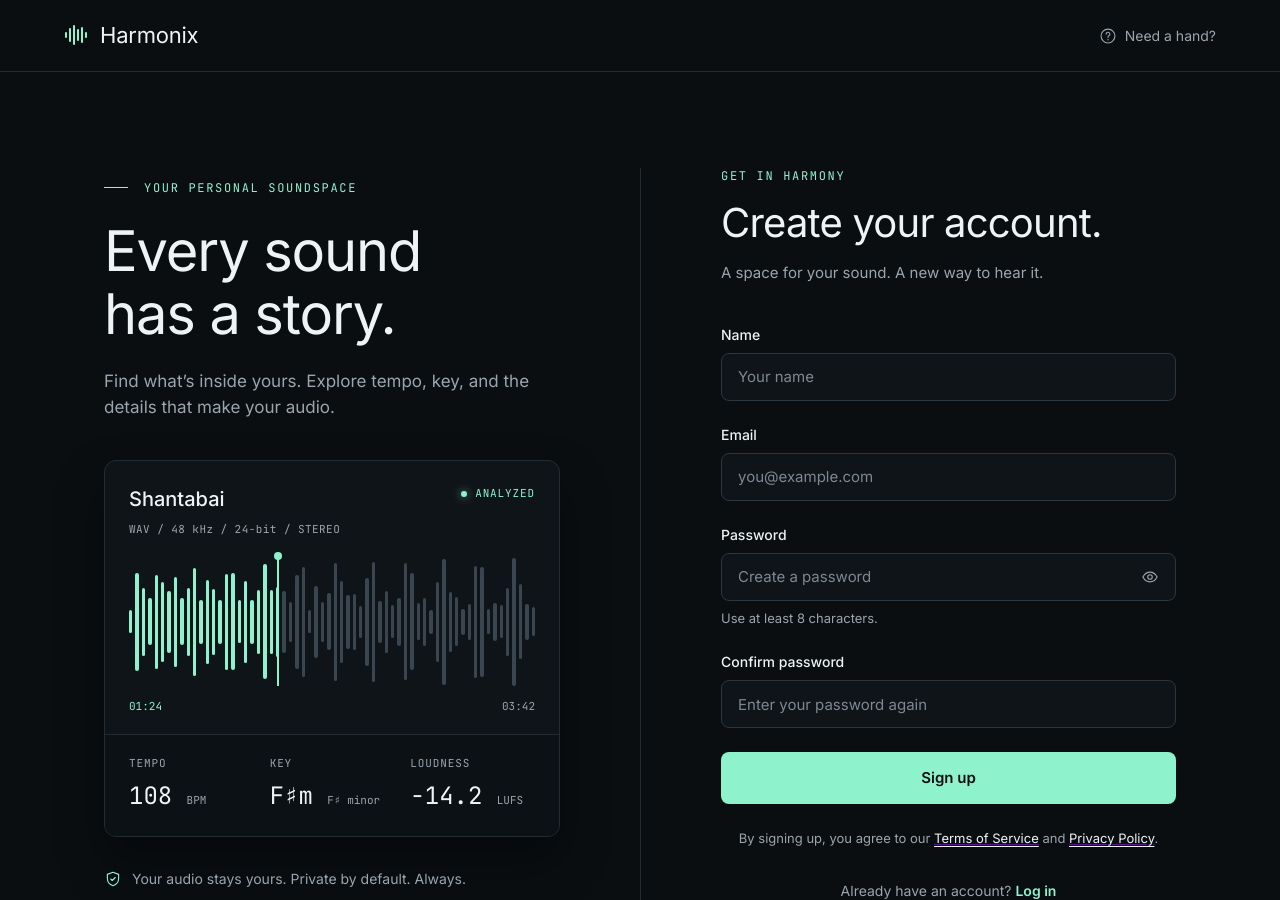
Test: login and signup pages › shows signup API errors and sanitizes unexpected exceptions
This screenshot has width=1280, height=900.
Type " Listener " into the field labelled "Name".
click(948, 376); type(" Listener ")  # box top-left (721, 352), bottom-right (1176, 400)
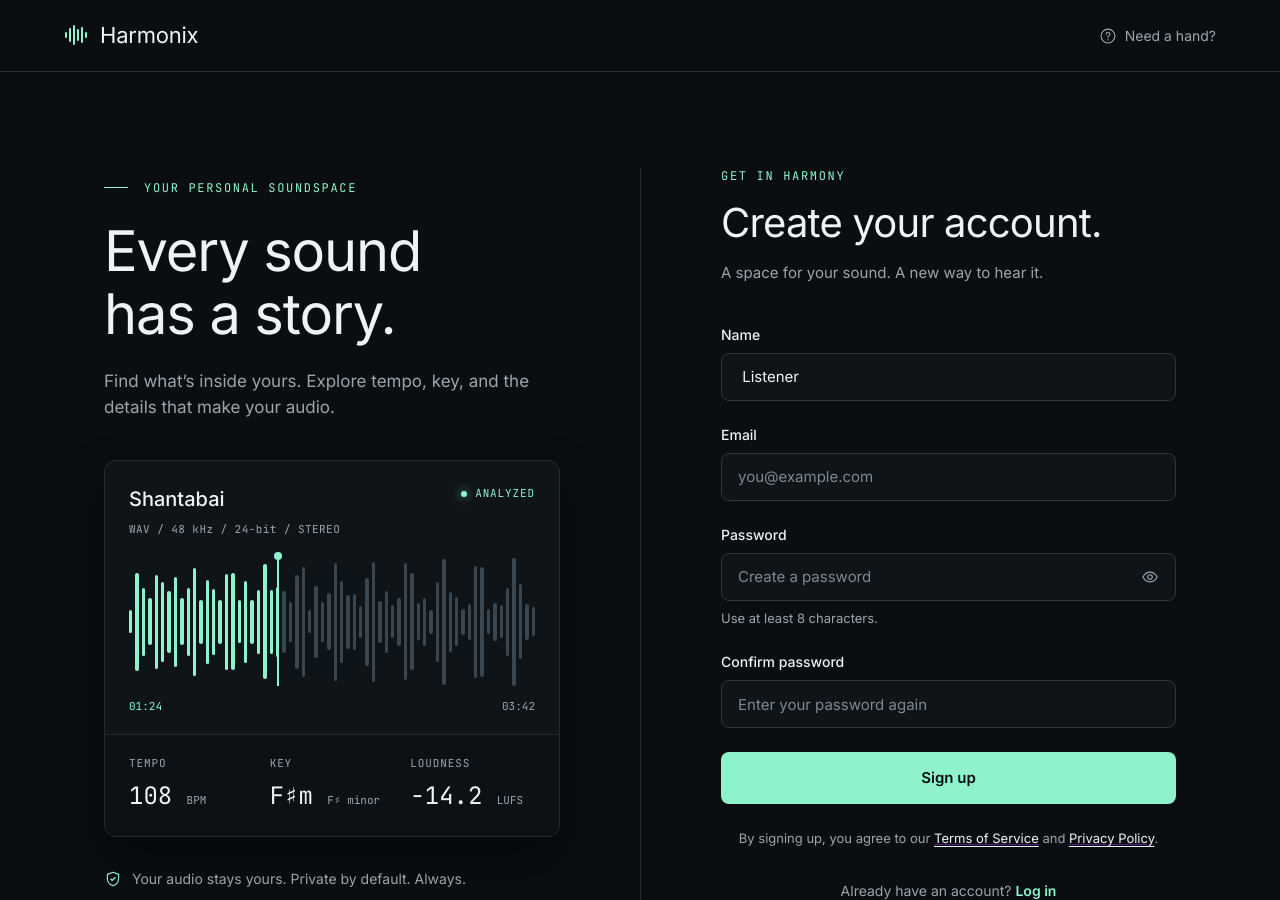
Type " listener@example.com " into the field labelled "Email".
click(948, 476); type(" listener@example.com ")  # box top-left (721, 452), bottom-right (1176, 500)
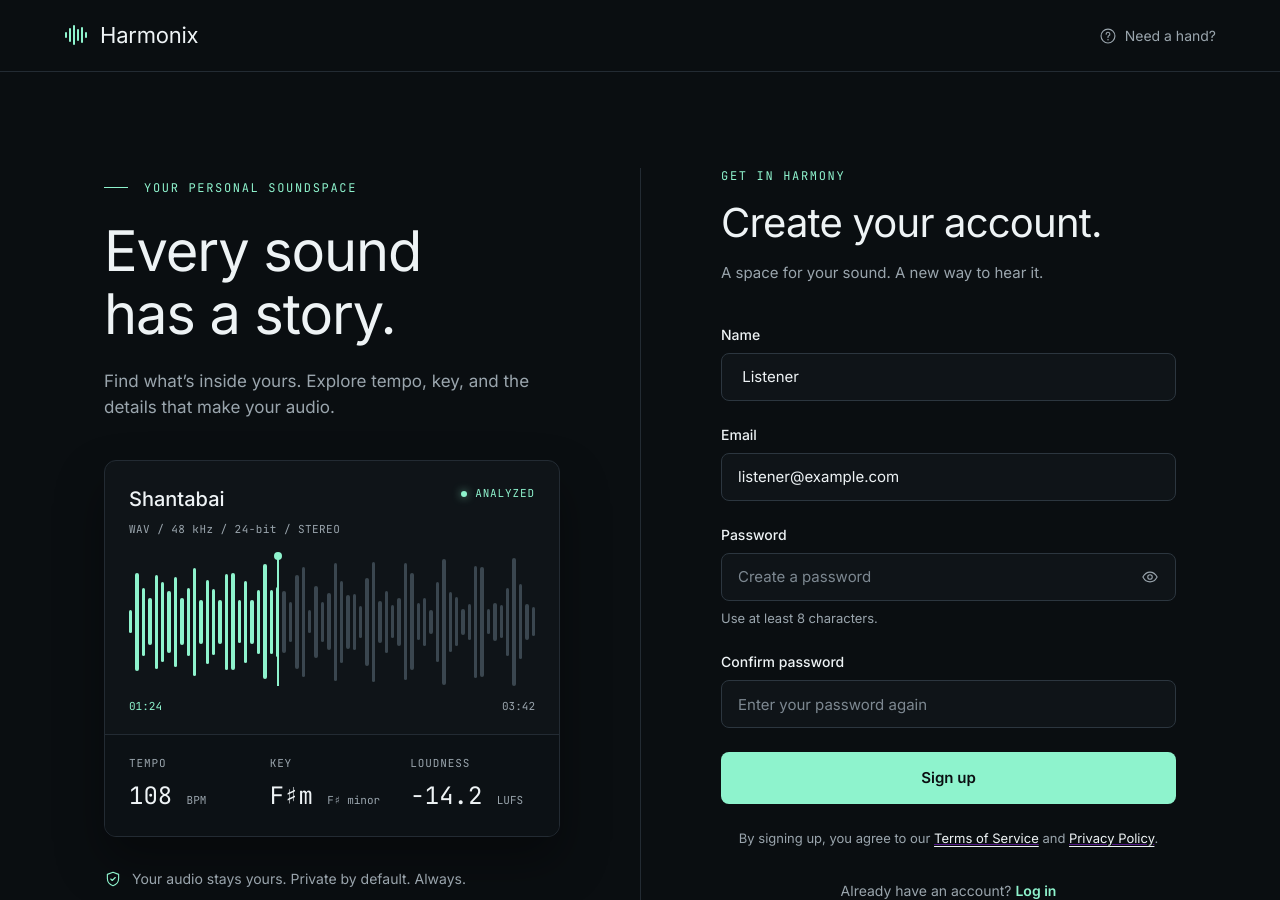
Type "password123" into the password field labelled "Password".
click(948, 576); type("password123")  # box top-left (721, 552), bottom-right (1176, 600)
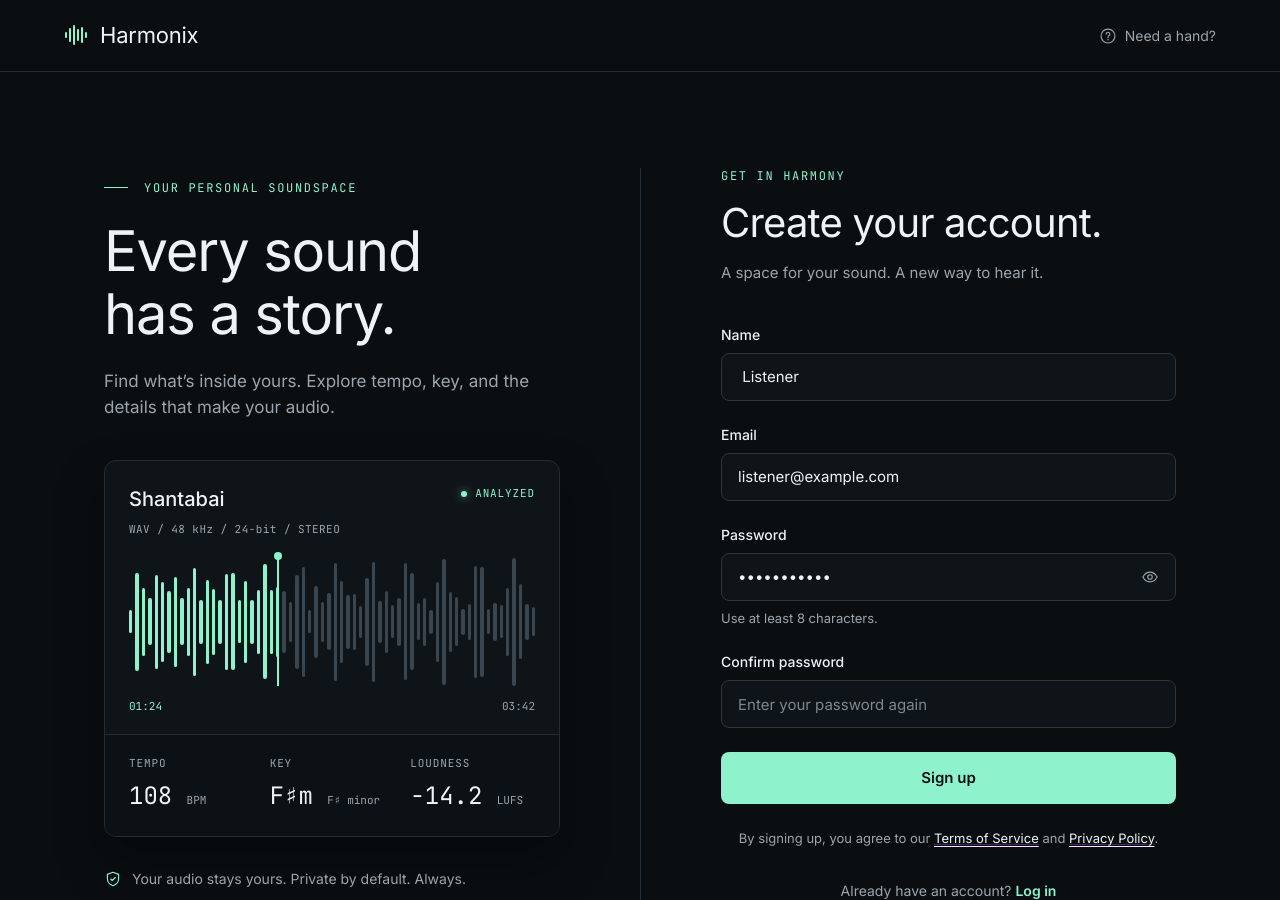
Type "password123" into the password field labelled "Confirm password".
click(948, 704); type("password123")  # box top-left (721, 680), bottom-right (1176, 728)
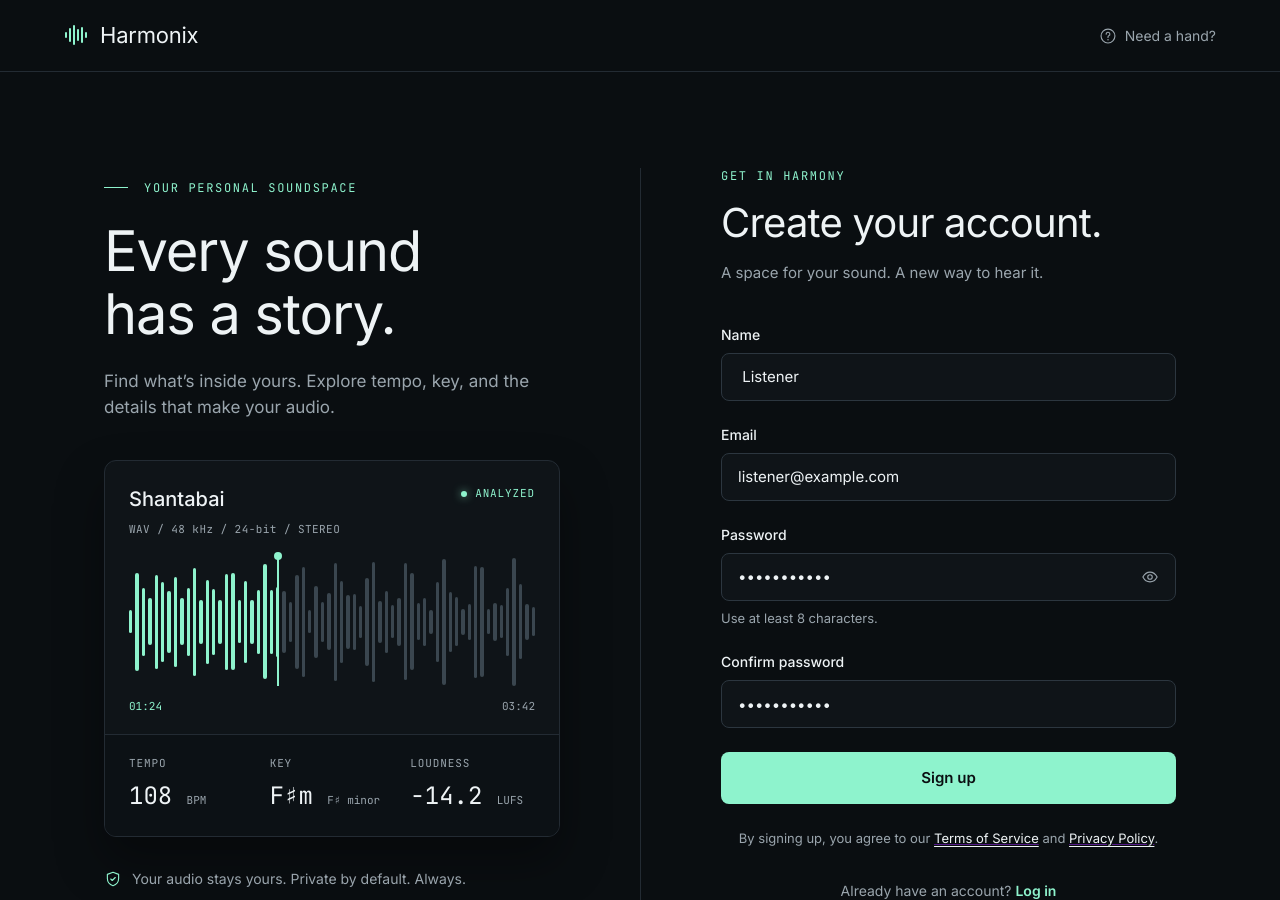
Click the button "Sign up".
click(948, 778)  # box top-left (721, 752), bottom-right (1176, 804)
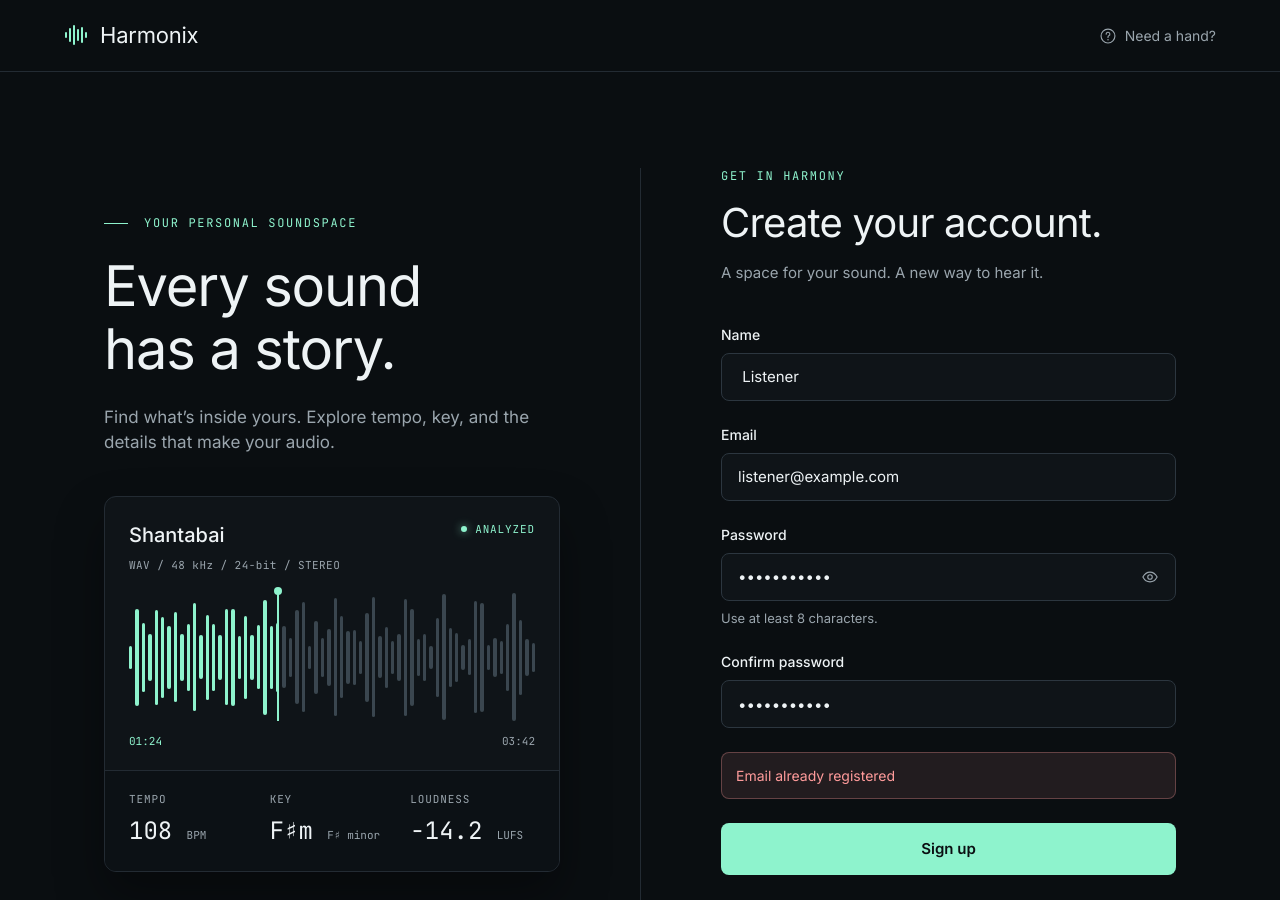
Now the message reads "Email already registered", box top-left (736, 767), bottom-right (895, 784)
Click the button "Sign up".
click(948, 849)  # box top-left (721, 823), bottom-right (1176, 875)
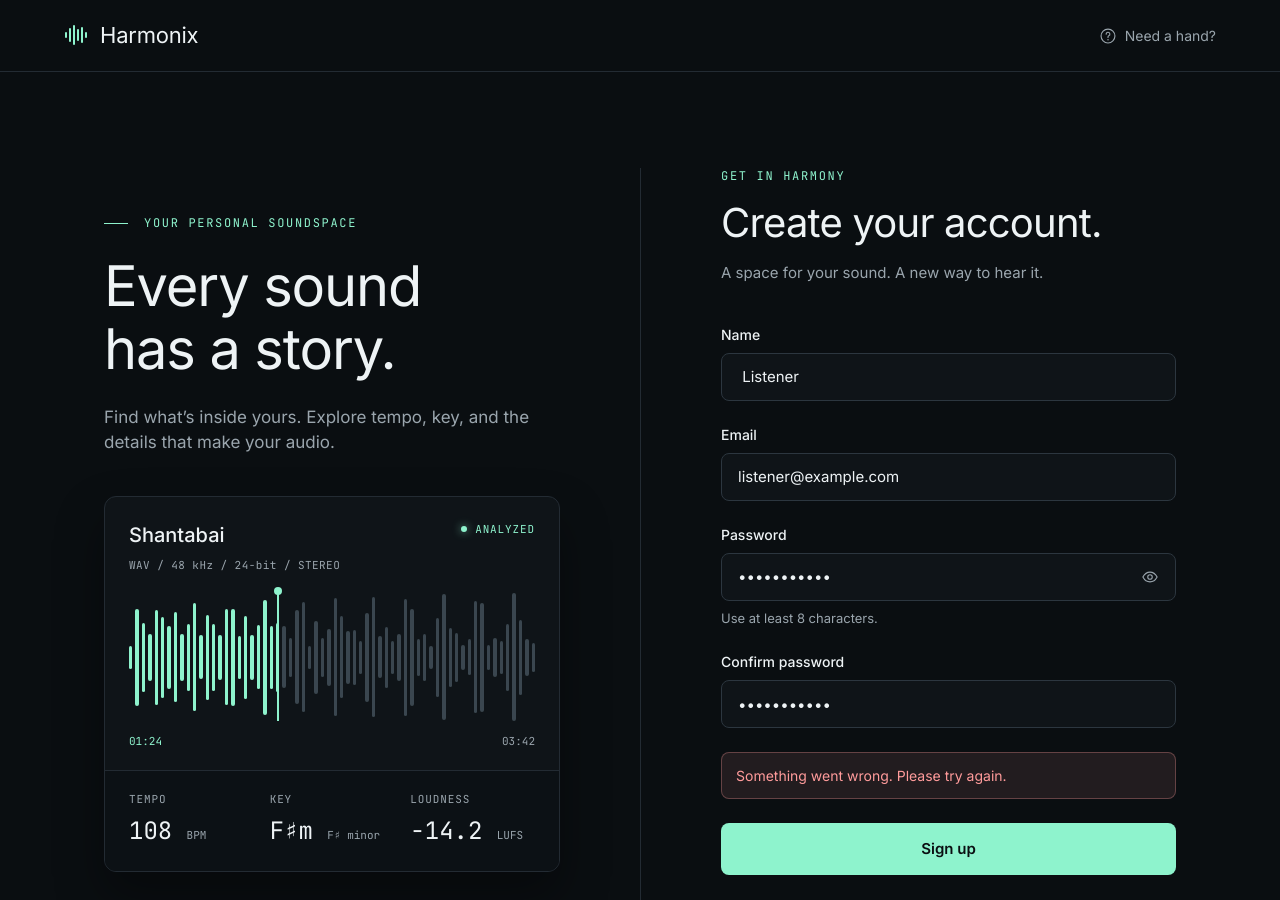
Expected: the message does not show "internal network detail", top-left (721, 752), bottom-right (1176, 799)
Now the message reads "Something went wrong. Please try again.", box top-left (736, 767), bottom-right (1007, 784)
